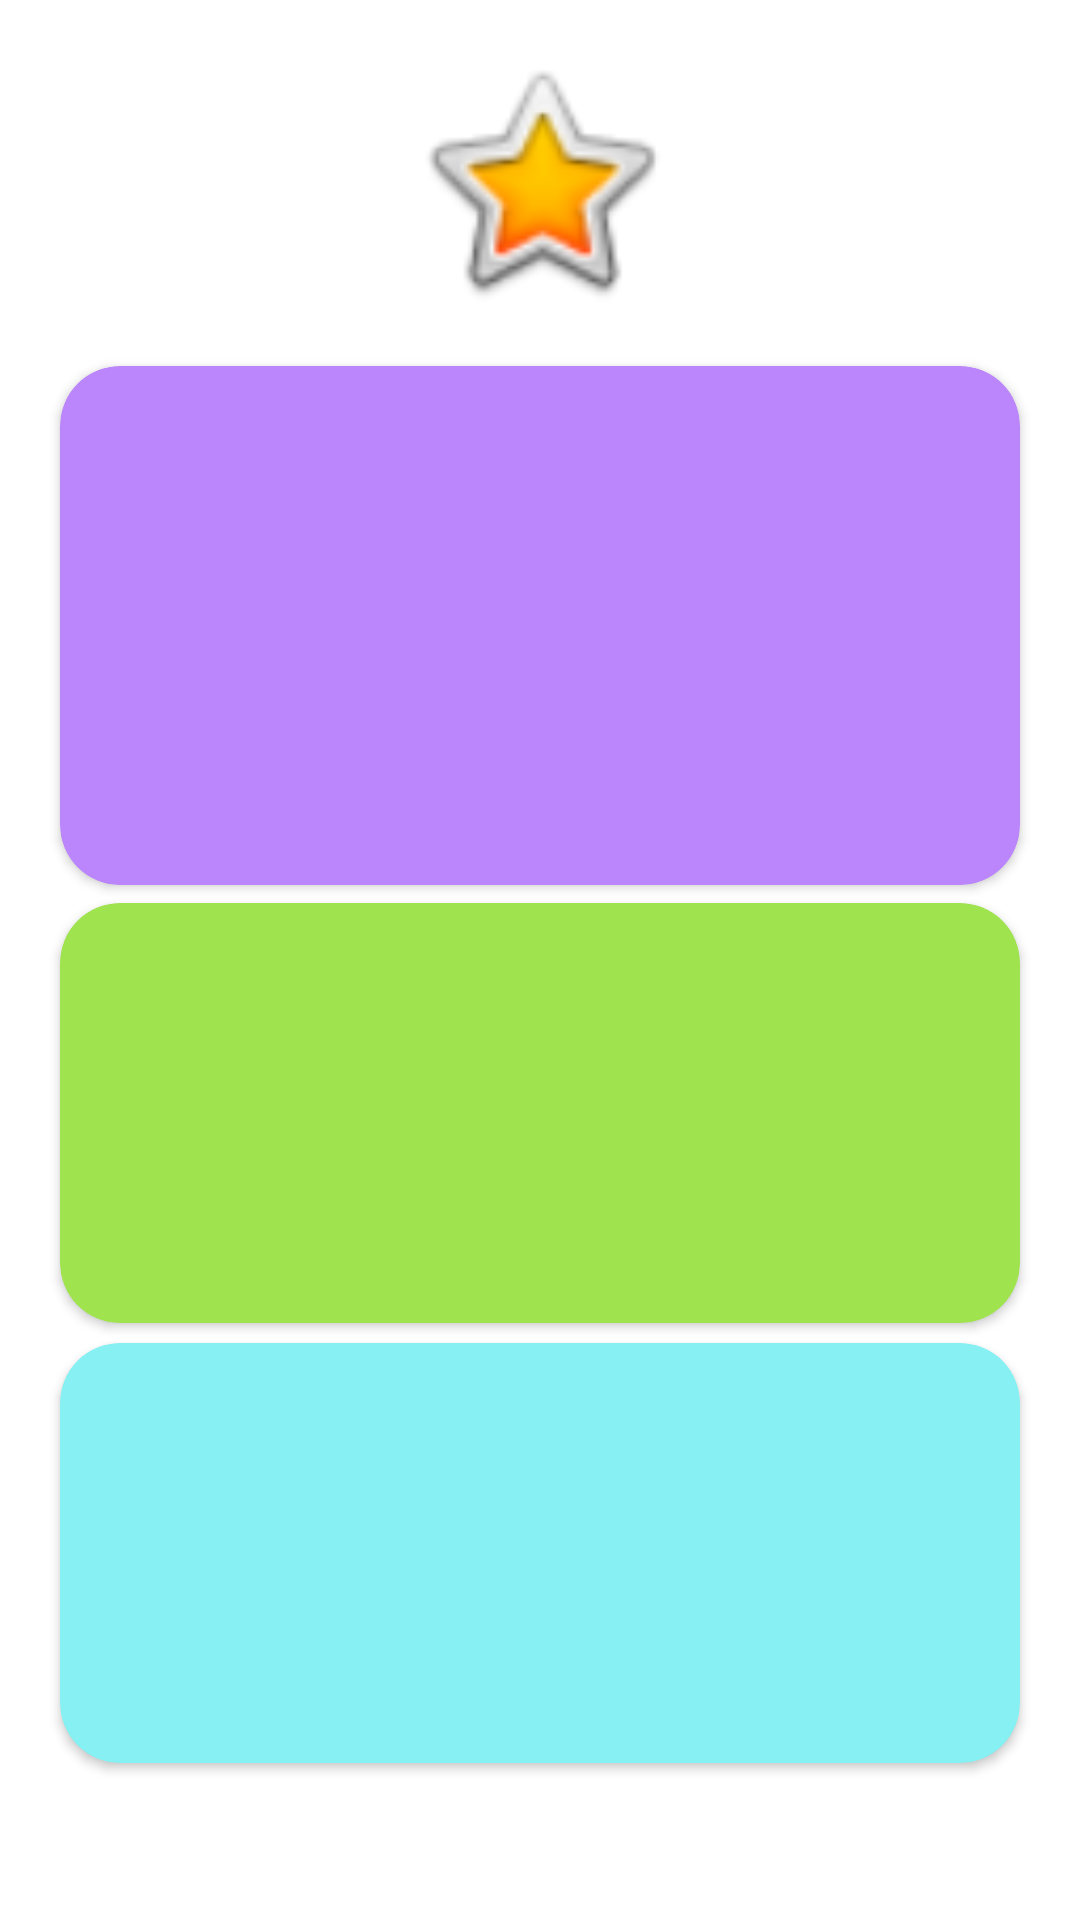

Where to tap for icons on this 1080 x 1920 app screen, as (x,y):
star on: (543,183)
